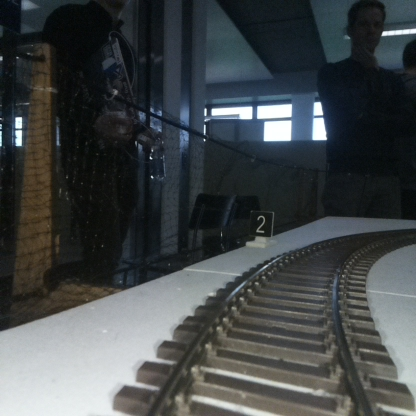black-stop-2: (250, 211, 271, 245)
